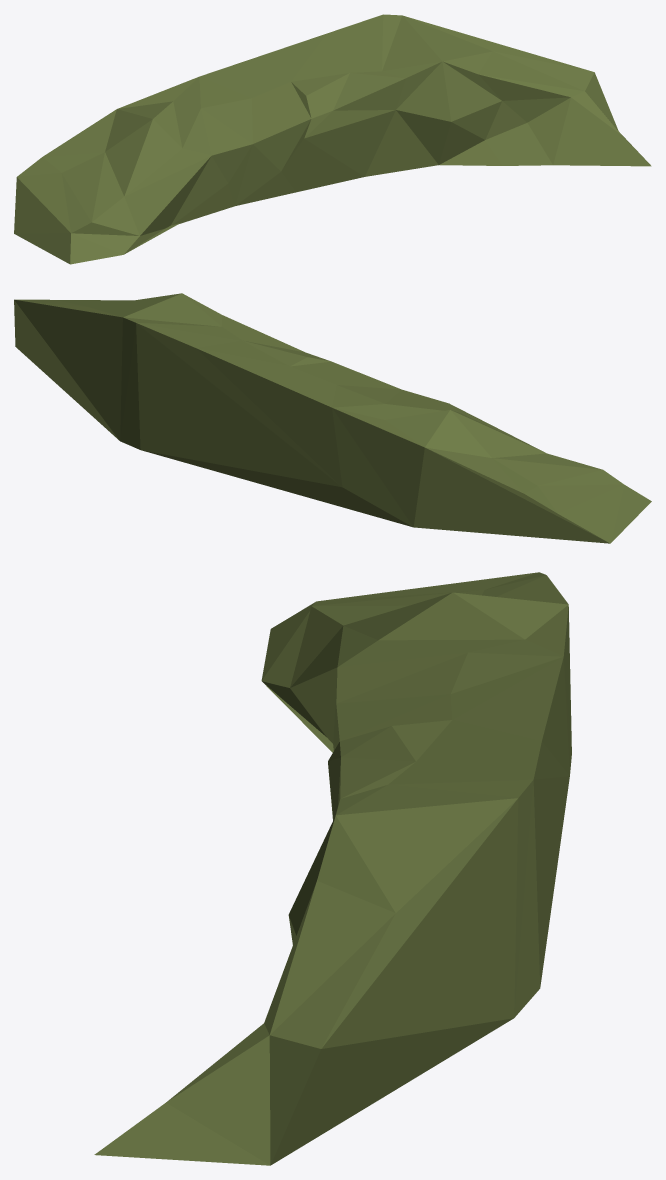
Rendered from ground_43.fbx.
3 views of the same model, one above another, from view 1: azimuth 30°, elevation 25°; view 2: azimuth 150°, elevation 25°; view 3: azimuth 270°, elevation 25° (orthographic). The views are drawn at different scales.
Parts seen in each view (by area): view 1: ground_43; view 2: ground_43; view 3: ground_43.
Part boxes in pixels (bbox=[...]): ground_43: bbox=[14, 14, 651, 264]; ground_43: bbox=[14, 293, 651, 543]; ground_43: bbox=[94, 572, 571, 1165].
Bounding box in the file's own units: 6.51 × 1.24 × 2.41.
